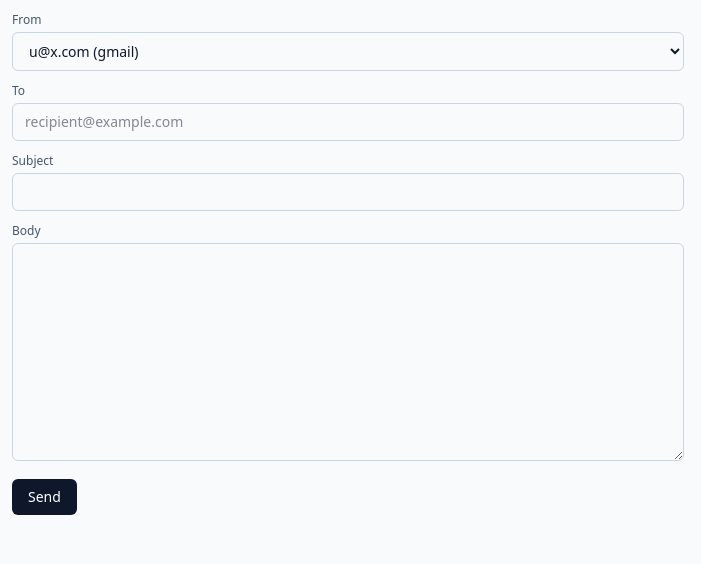
ComposeForm (case 10) › validates required fields
Click the button "Send". click: (44, 497)
box: [12,479,77,515]
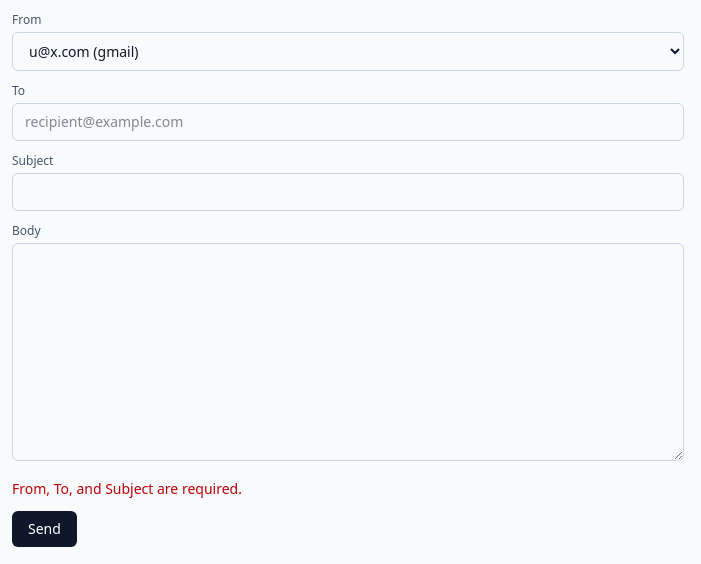
Check: the text "From, To, and Subject are required." is shown, box [12,479,242,498]
